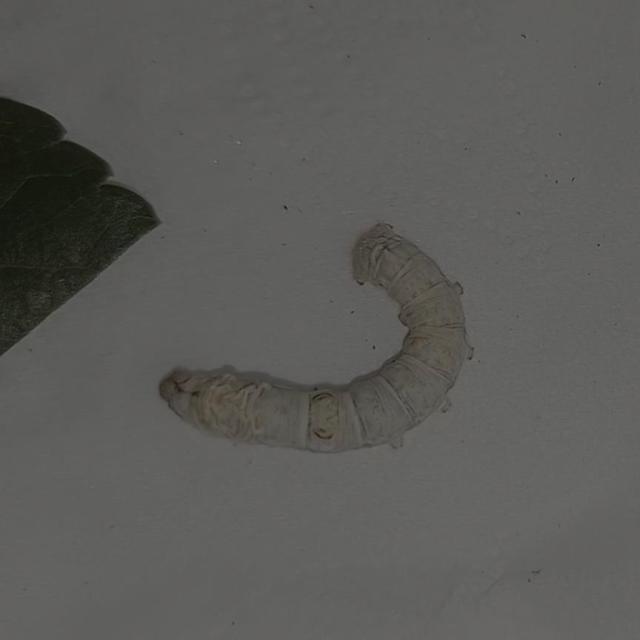Healthy: (120, 200, 496, 533)
